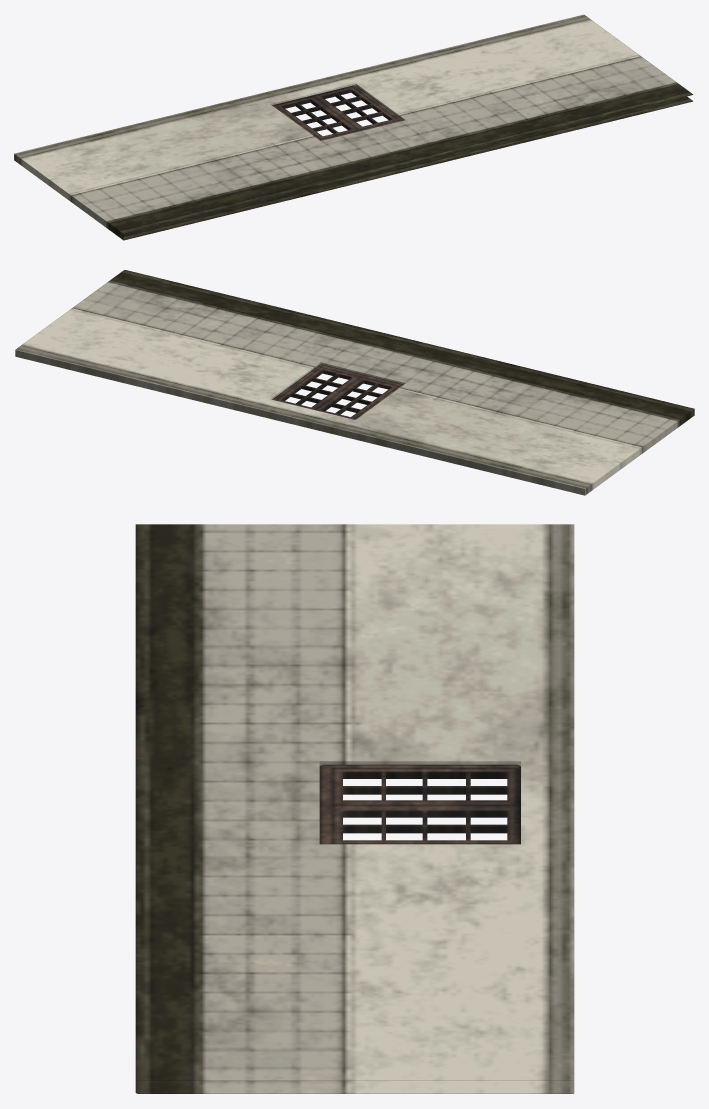
Rendered from SM_EC_House_Wall_Window_0_9x3_3.fbx.
The picture shows the model from 3 angles, top to bottom: view 1: azimuth 30°, elevation 25°; view 2: azimuth 150°, elevation 25°; view 3: azimuth 270°, elevation 25°; orthographic projection. The views are drawn at different scales.
Visible parts, largest first — view 1: SM_EC_House_Wall_Window_0_9x3_3; view 2: SM_EC_House_Wall_Window_0_9x3_3; view 3: SM_EC_House_Wall_Window_0_9x3_3.
Part boxes in pixels (left/top/right/bottom): SM_EC_House_Wall_Window_0_9x3_3: left=14, top=14, right=692, bottom=240; SM_EC_House_Wall_Window_0_9x3_3: left=15, top=270, right=694, bottom=495; SM_EC_House_Wall_Window_0_9x3_3: left=135, top=524, right=574, bottom=1093.
Size of the model in its own units: 9 by 3 by 0.1.
